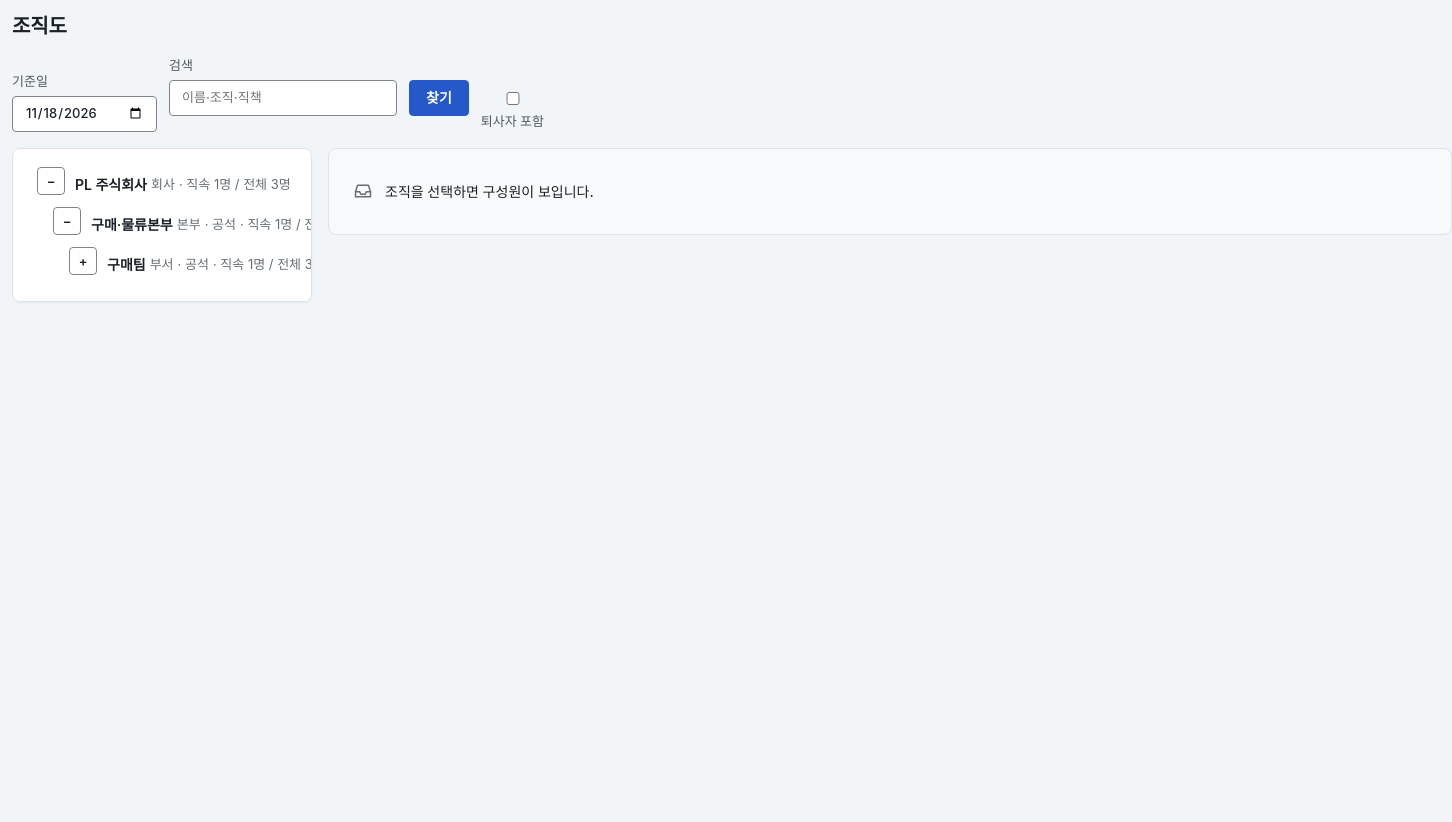
Test: 조직도 화면 › 퇴사자 포함은 이력 권한이 있는 역할에게만 보이고 사람 카드에 이력 표가 나온다
Expected: the list named "조직 트리" is shown, [37,164,287,284]
Step 1. Click the text "구매·물류본부" → click(132, 224), box [91,214,173,235]
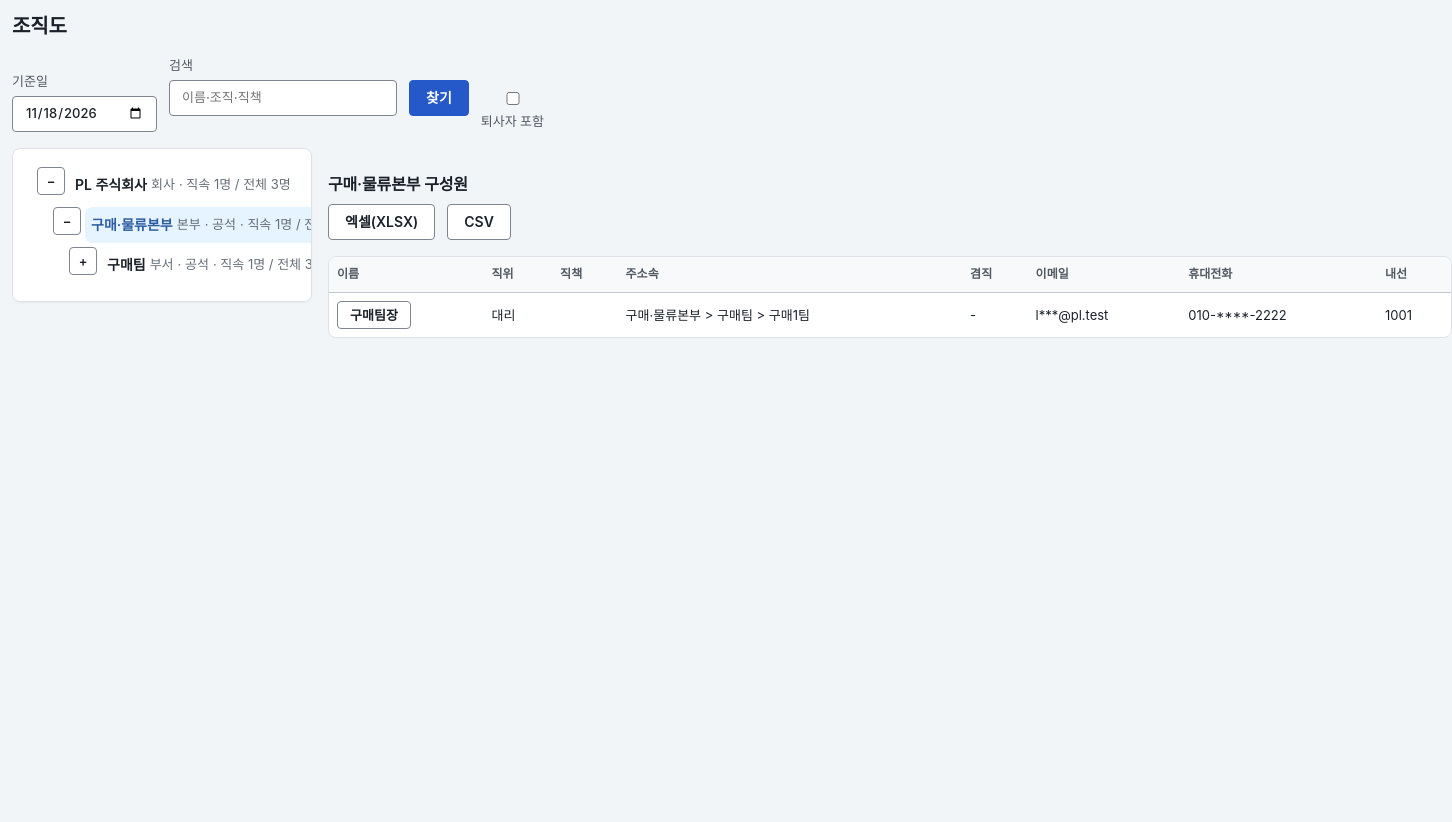
Expected: the checkbox labelled "퇴사자 포함" is shown, [485,92,541,105]
Step 2. Click the button "구매팀장" → click(374, 315), box [337,301,411,329]
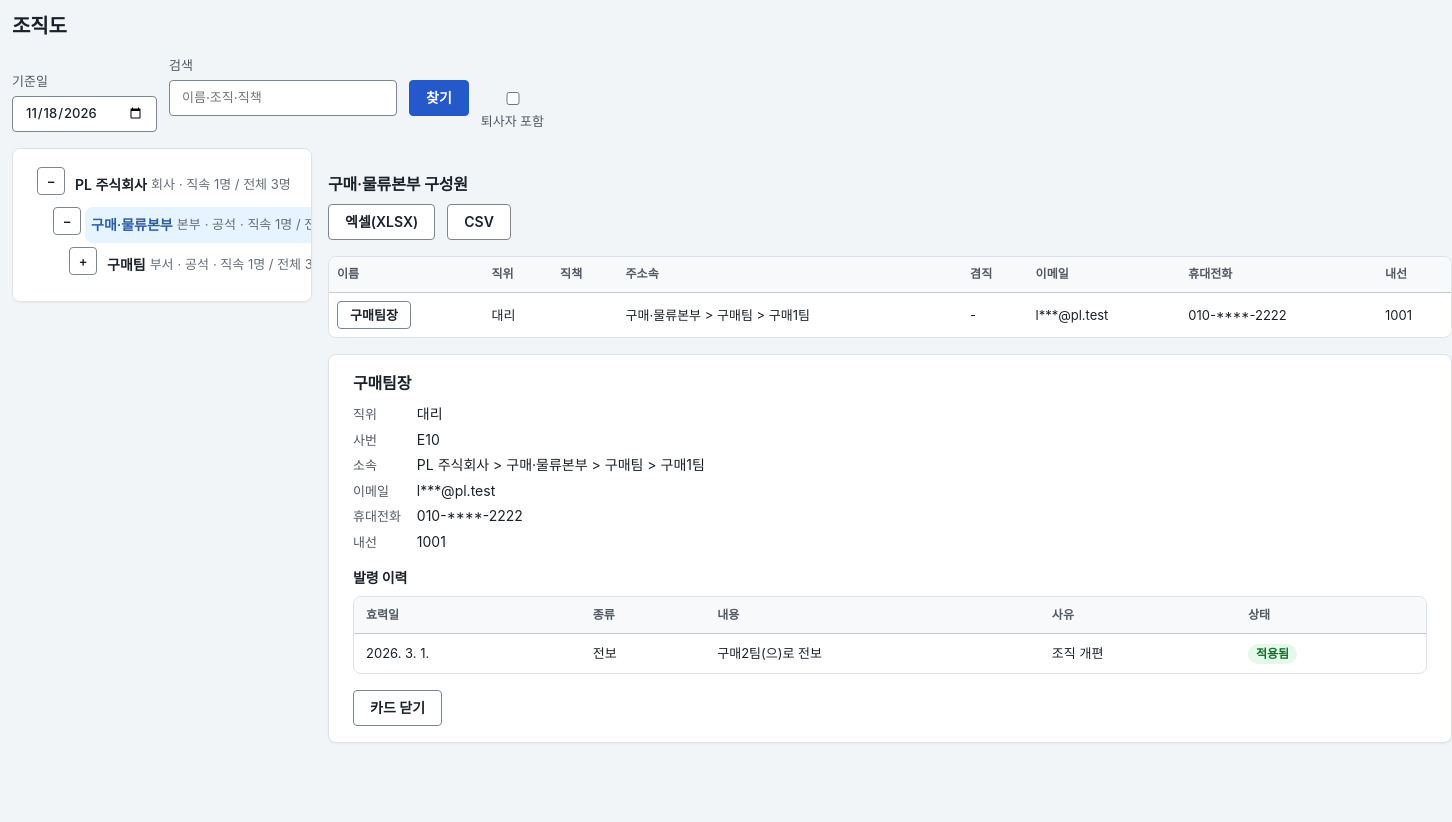
Expected: the text "조직 개편" is shown, [1040,633,1236,673]
Expected: the text "적용됨" is shown, [1248,644,1297,664]
